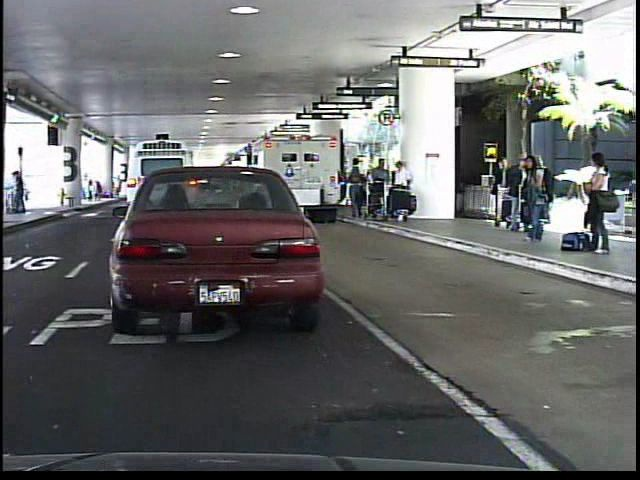person: (581, 147, 611, 260)
